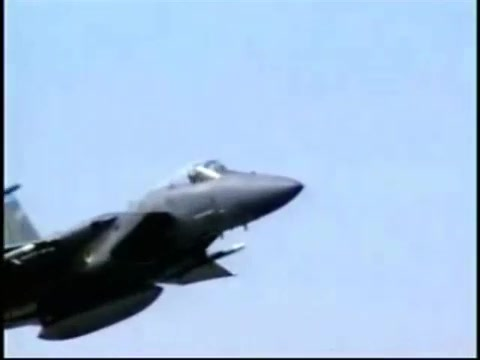aeroplane: (4, 159, 307, 343)
